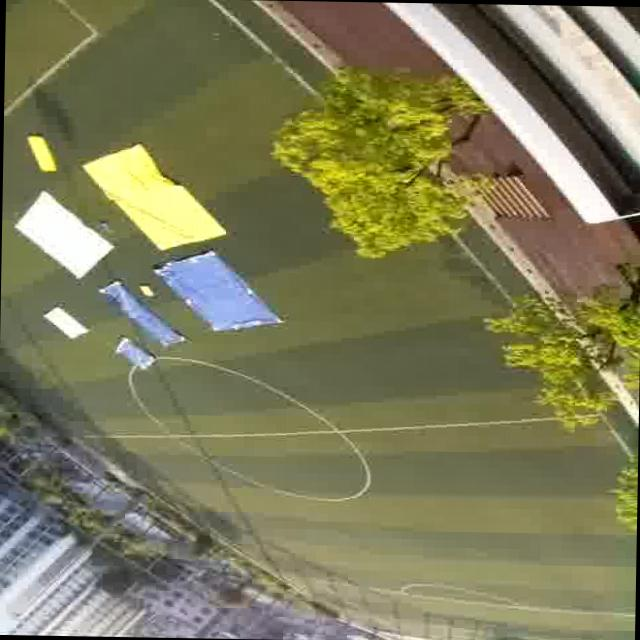danger: (168, 256, 268, 322), (112, 336, 158, 375), (118, 300, 169, 334)
safety: (12, 188, 100, 284), (38, 303, 98, 340)
warning: (86, 141, 192, 219), (21, 130, 62, 178)
